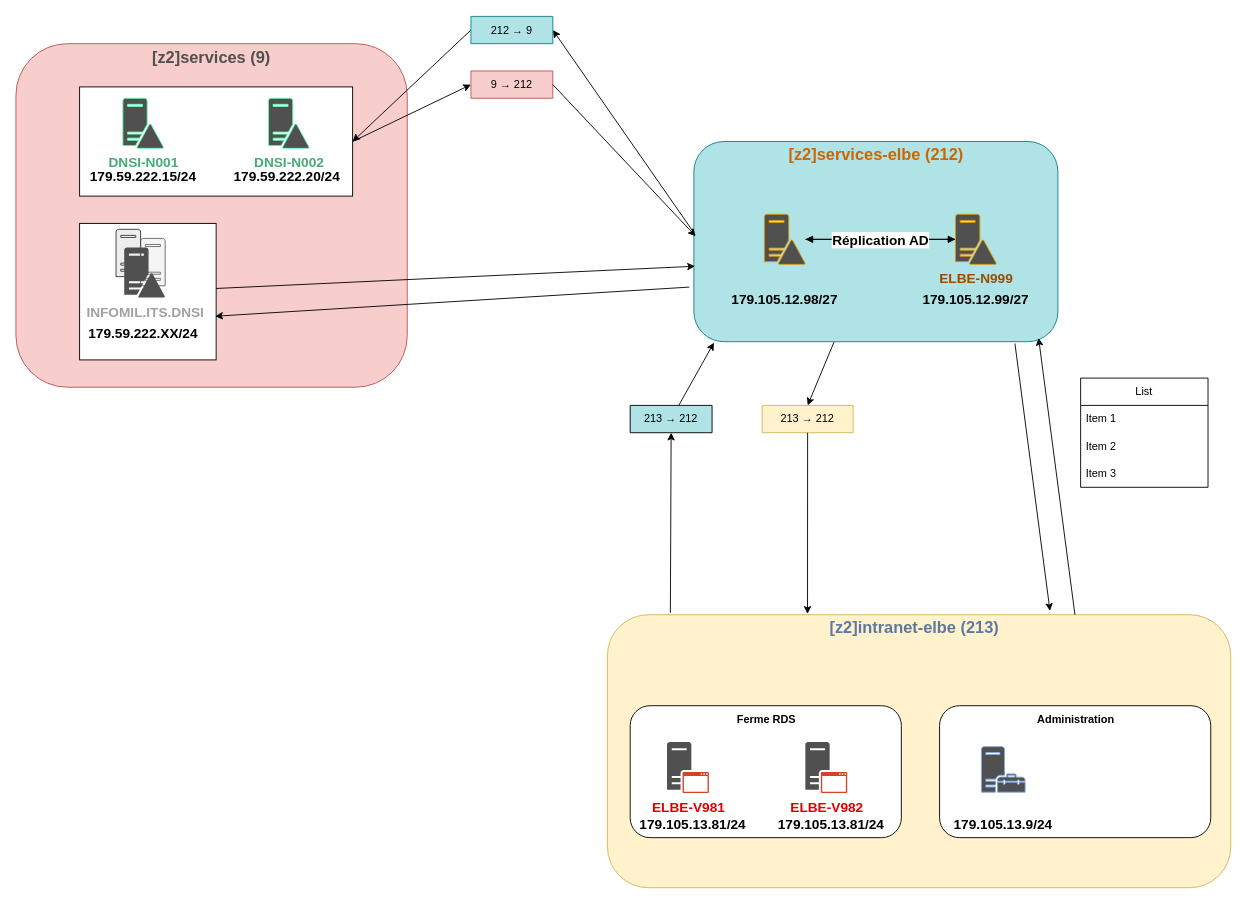
Image size: 1247x904. Some labels were removed from this diagram. The shapes that lost their labels are listed below. From the top down, each one's centre as x and y in pixels, then its label:
At pixel 784 238: "ELBE-N998".
At pixel 1003 769: "ELBE-V909".
